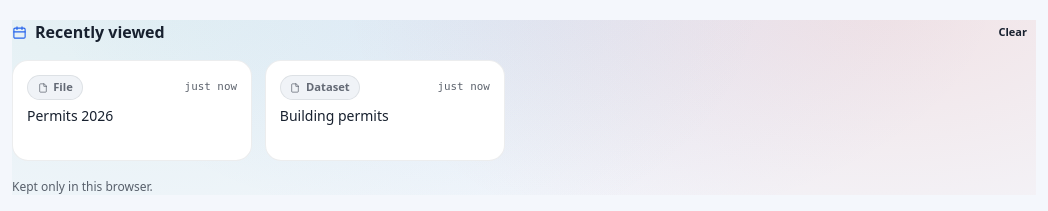
Scenario: shows nothing until something was opened, then the views newest first
This screenshot has width=1048, height=211.
Later steps or results of the test are not shown.
Expected: the text "Kept only in this browser." is shown, [12,178,153,195]
Click the button with aria-label "Clear the recently viewed list": (1013, 32) [990,20,1036,44]
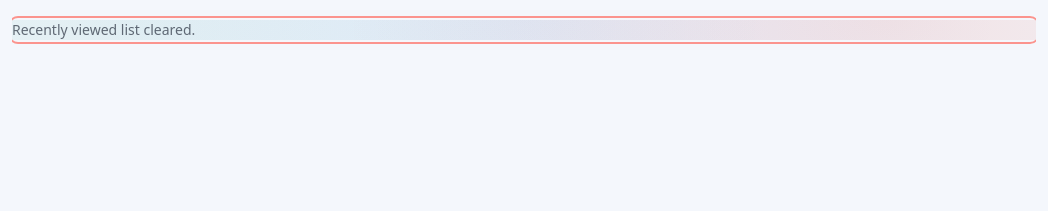
Result: the message reads "Recently viewed list cleared." at [12,20,195,39]
